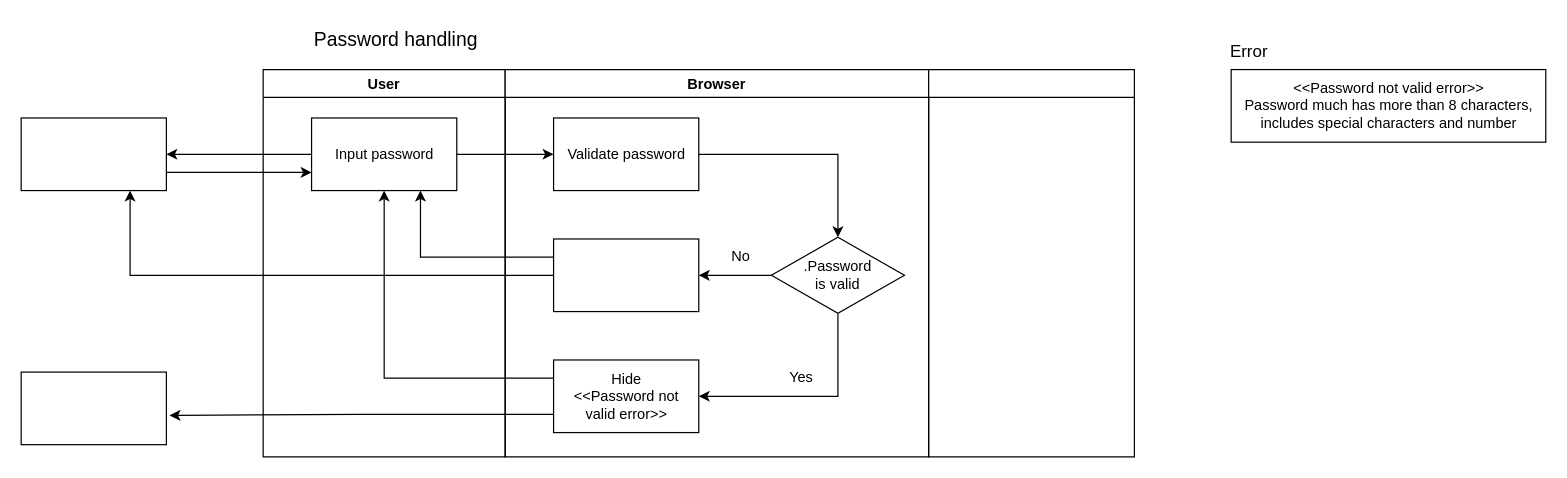
Image size: 1567x478. Some labels were removed from this diagram. The box of each missing label's shape, as (x1, y1, x2, y2) in pixels:
Idle: (20, 117, 166, 191)
Login handling: (20, 371, 166, 445)
Server: (927, 68, 1134, 457)
Show <<Password not valid error>>: (552, 238, 699, 312)
